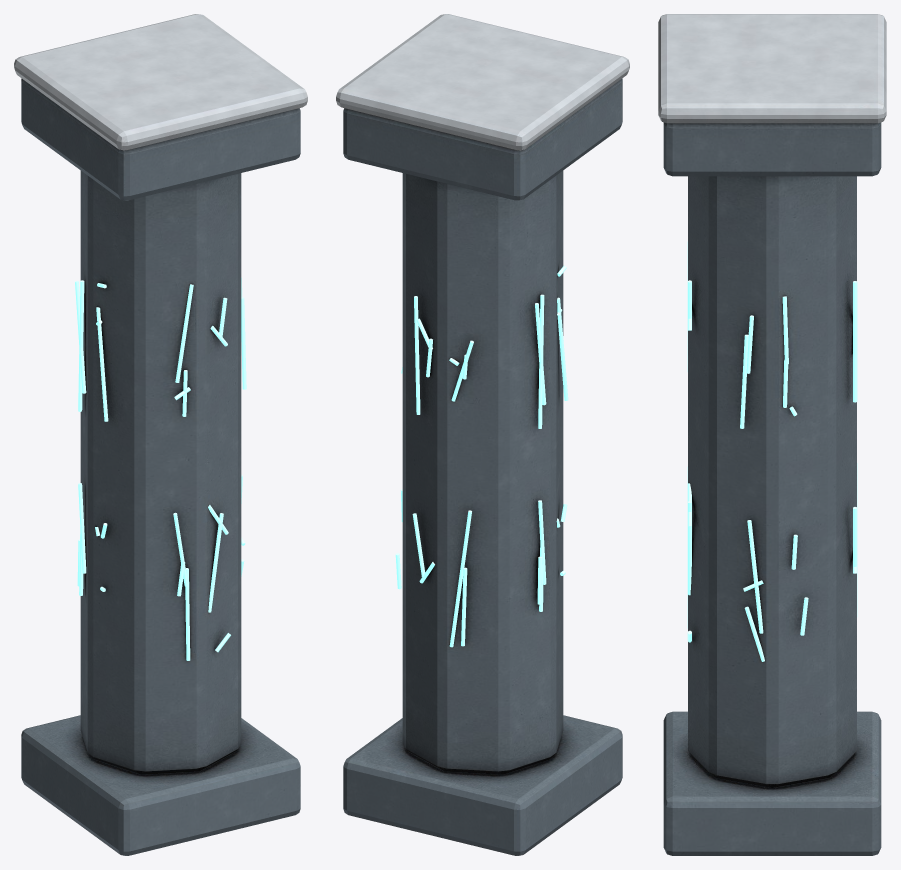
The model's file is dg_pilar_runico.glb.
3 renders of one model, left to right at view 1: azimuth 30°, elevation 25°; view 2: azimuth 150°, elevation 25°; view 3: azimuth 270°, elevation 25°, orthographic. The views are drawn at different scales.
Visible parts, largest first — view 1: dg_pilar_runico_tronco; view 2: dg_pilar_runico_tronco, runa_pilar22_0; view 3: dg_pilar_runico_tronco, runa_pilar21_2, runa_pilar13_1, runa_pilar11_1.
Part boxes in pixels (x1,y1,x2,y2): dg_pilar_runico_tronco: [14, 14, 307, 855]; dg_pilar_runico_tronco: [336, 14, 629, 855]; runa_pilar22_0: [449, 510, 471, 647]; dg_pilar_runico_tronco: [658, 14, 886, 855]; runa_pilar21_2: [853, 281, 857, 402]; runa_pilar13_1: [747, 520, 763, 633]; runa_pilar11_1: [740, 334, 748, 428].
Size of the model in its own units: 1.05 by 3.83 by 1.05.
43 materials, 1 textured.
